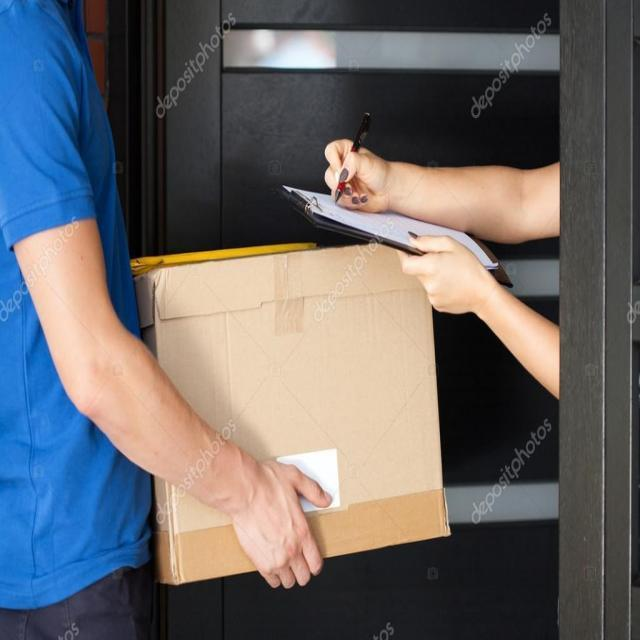box: (124, 232, 458, 593)
